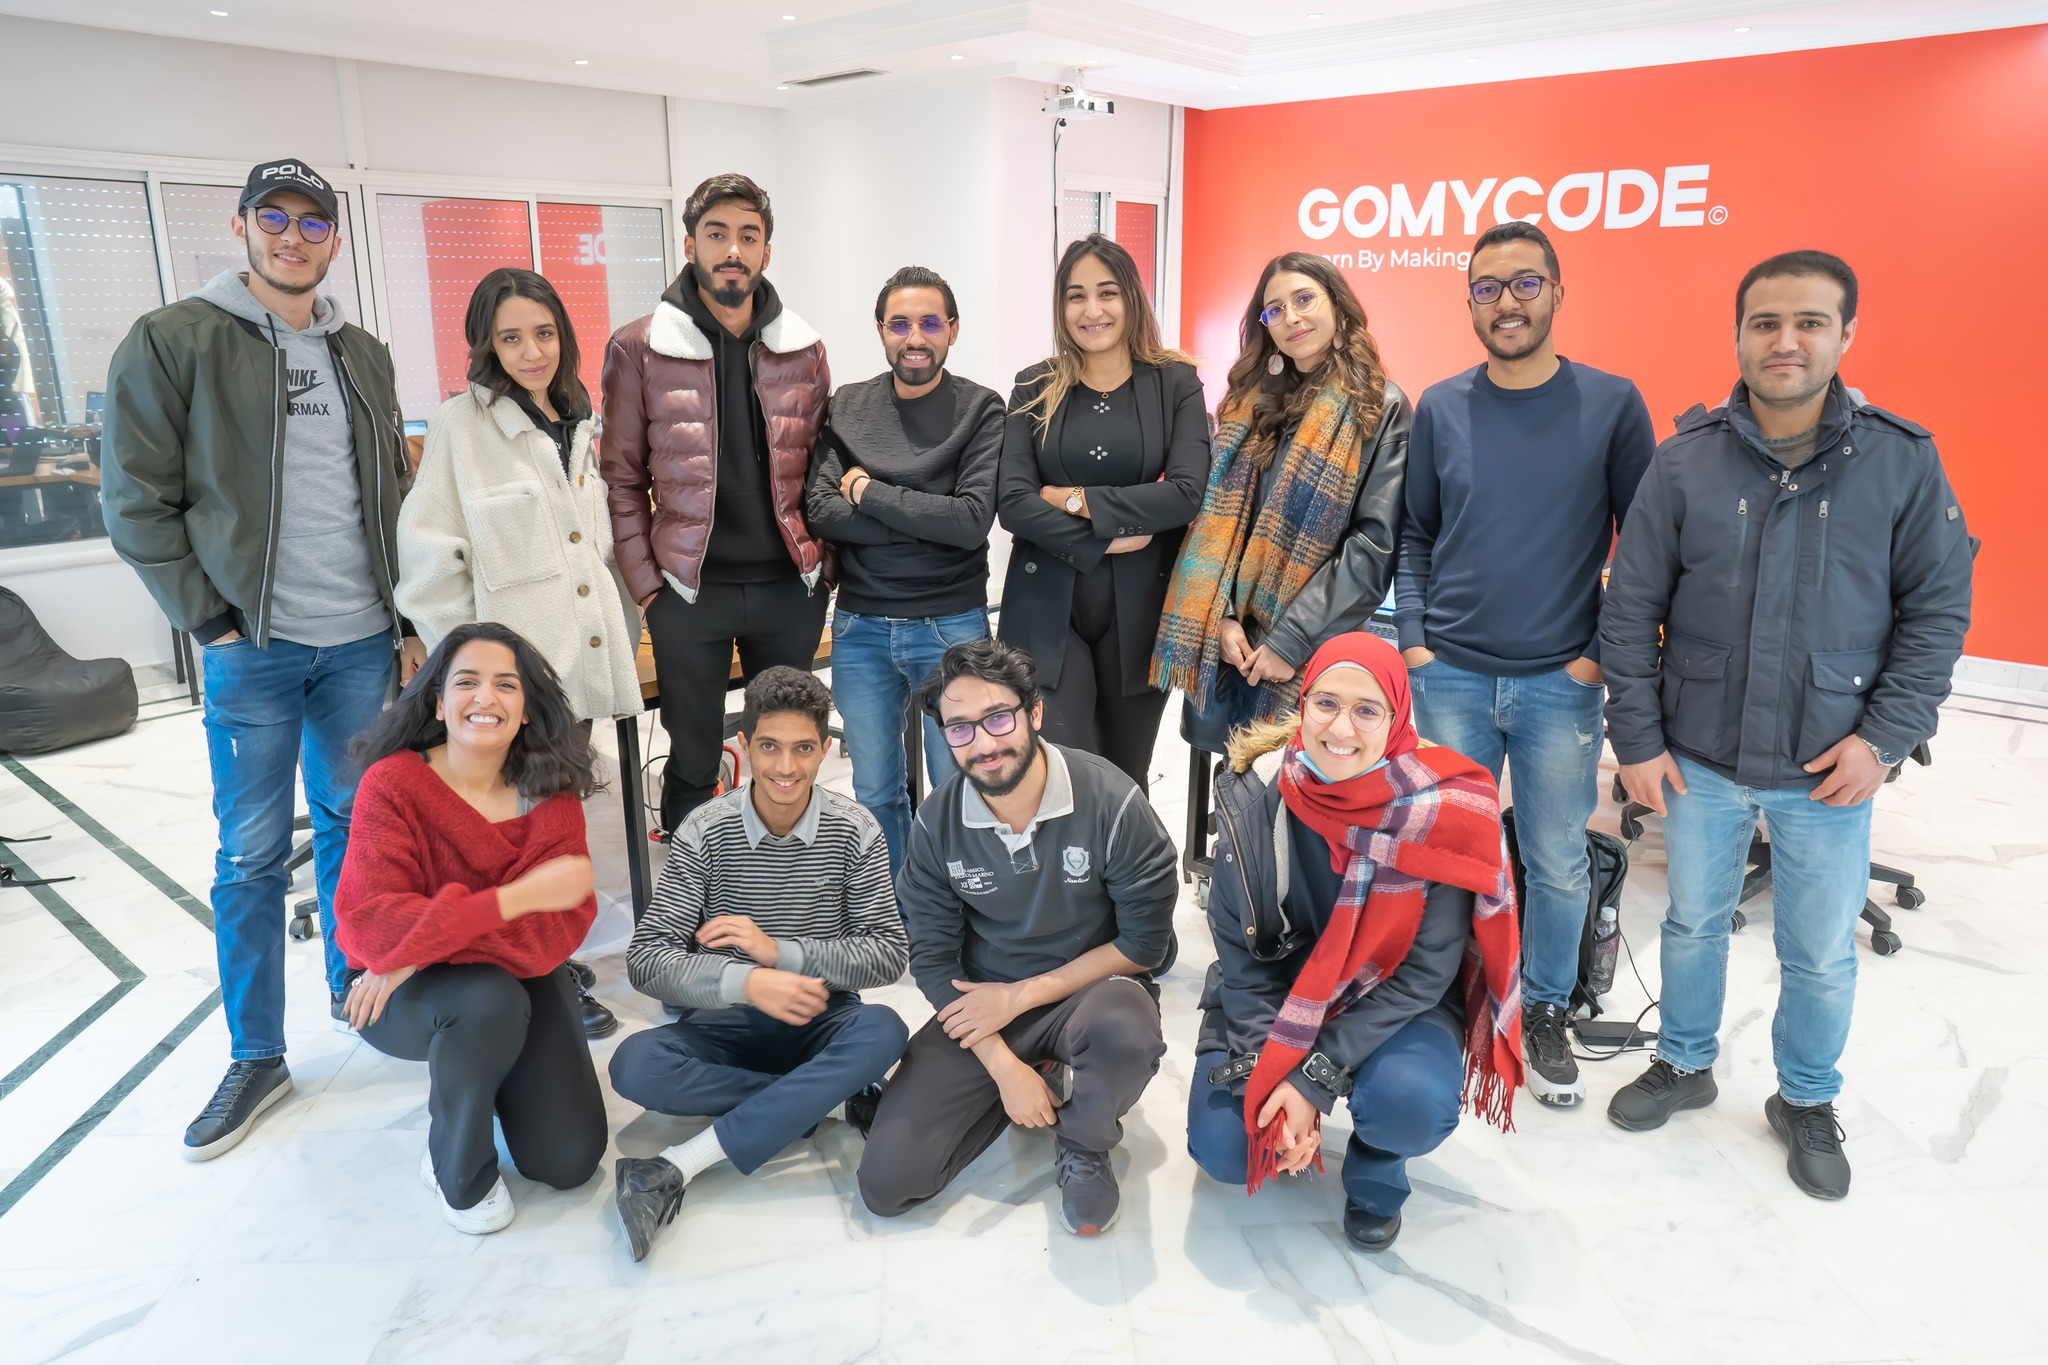without_mask: (1738, 302, 1842, 396), (939, 699, 1034, 778), (1306, 686, 1386, 777), (443, 660, 524, 743), (253, 198, 331, 282), (1467, 265, 1552, 340), (699, 214, 769, 295), (1255, 287, 1336, 354), (490, 318, 572, 383), (753, 730, 821, 801), (878, 313, 949, 380), (1062, 279, 1133, 341)
